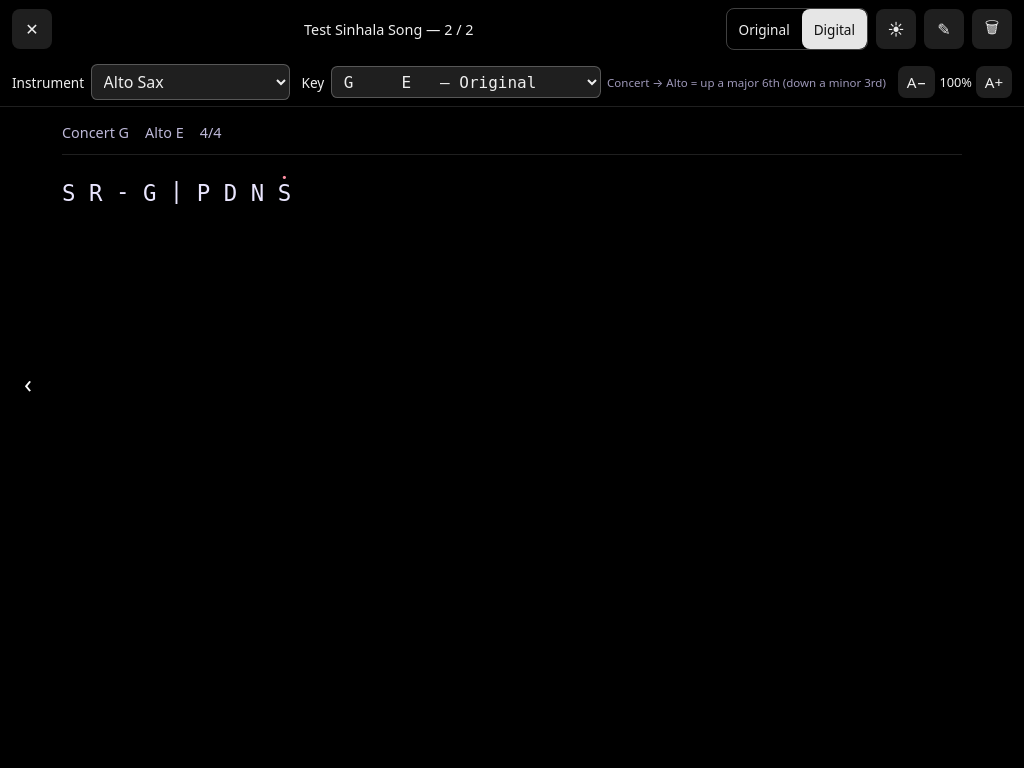
Scenario: App › steps the digital text size and persists the choice
The image size is (1024, 768).
Expected: the text "Concert G" is shown, [62,123,129,142]
Expected: the text "100%" is shown, [939,73,972,91]
Click the button named "Larger text" at (994,82), box [976,66,1012,98]
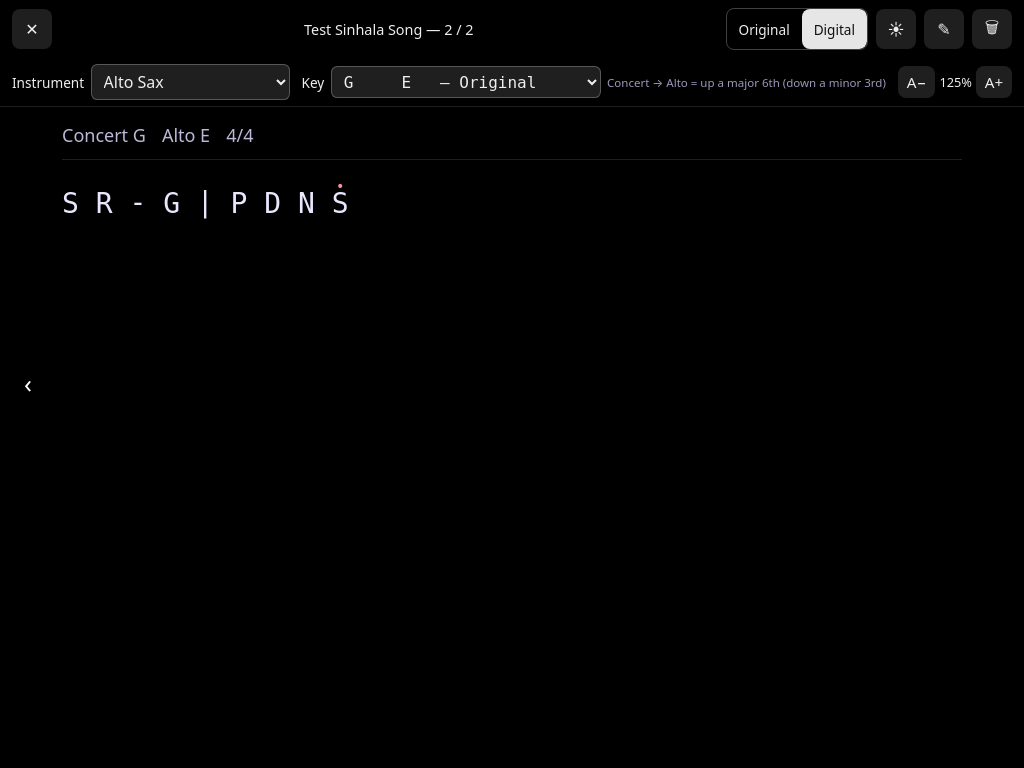
Expected: the text "125%" is shown, [939,73,972,91]
Click the button named "Smaller text" at (917,82), box [898,66,935,98]
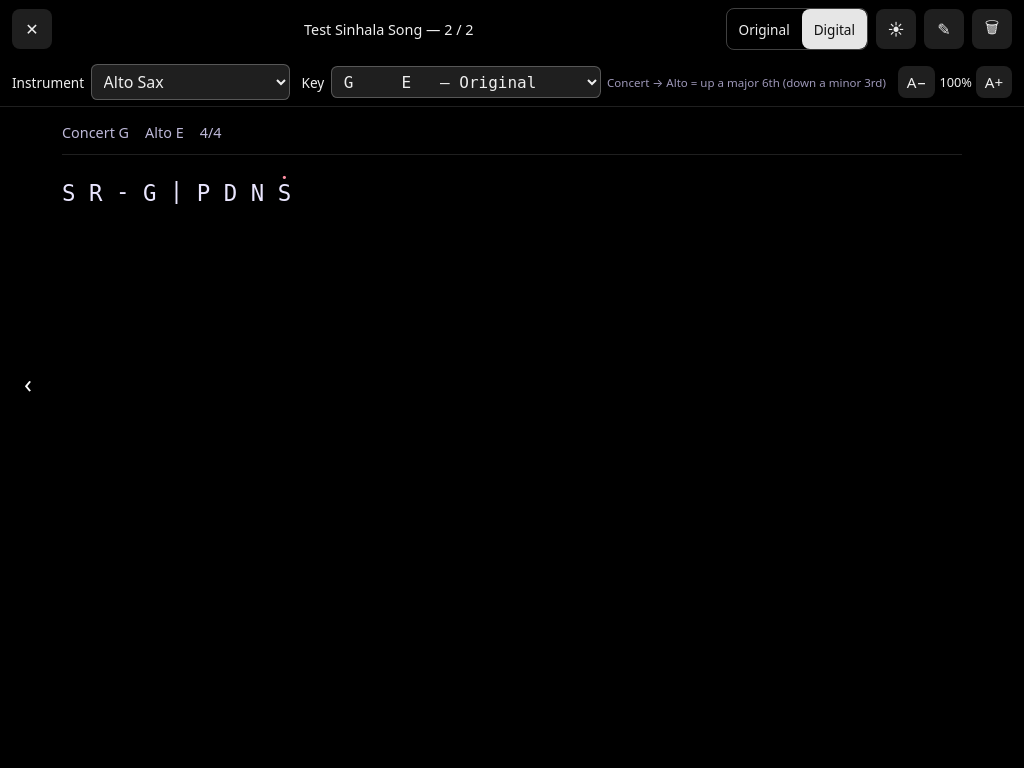
Expected: the text "100%" is shown, [939,73,972,91]
